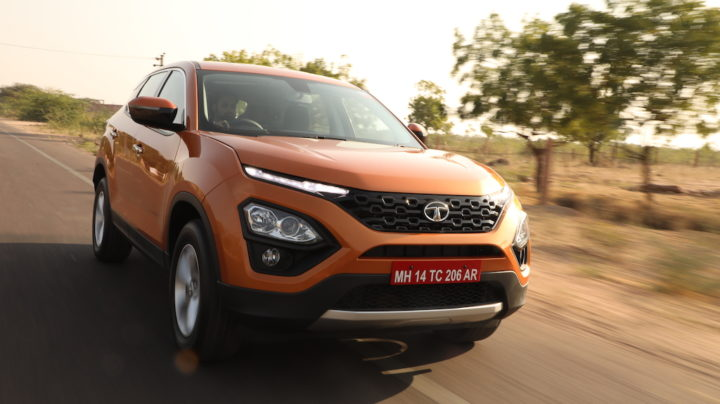number_plate: (388, 258, 487, 288)
